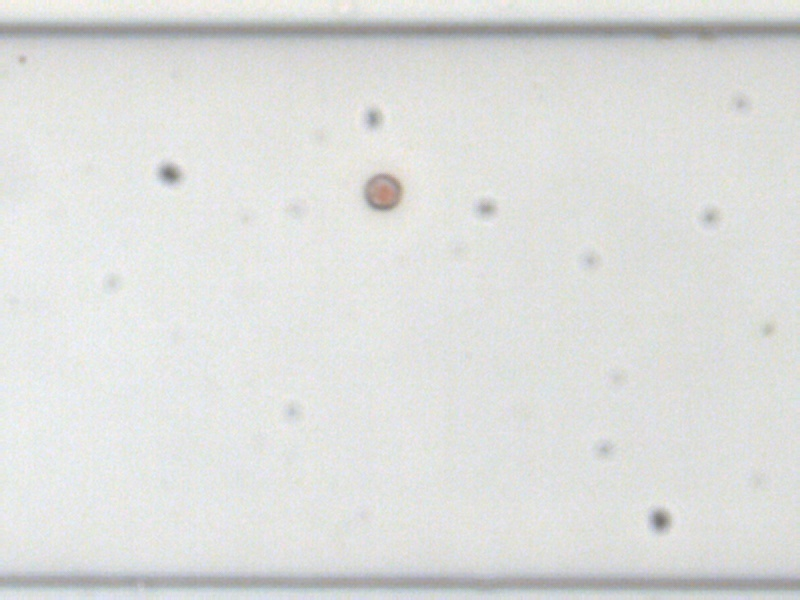Porphyridium: (362, 173, 401, 211)
